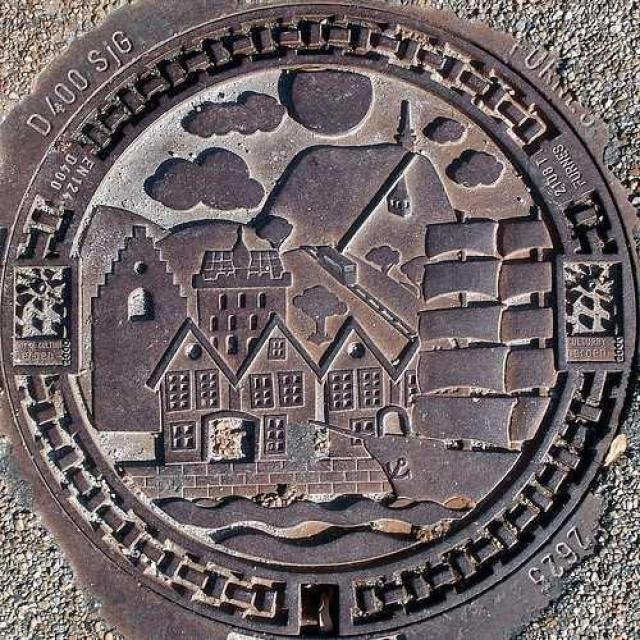manhole: (0, 0, 636, 640)
